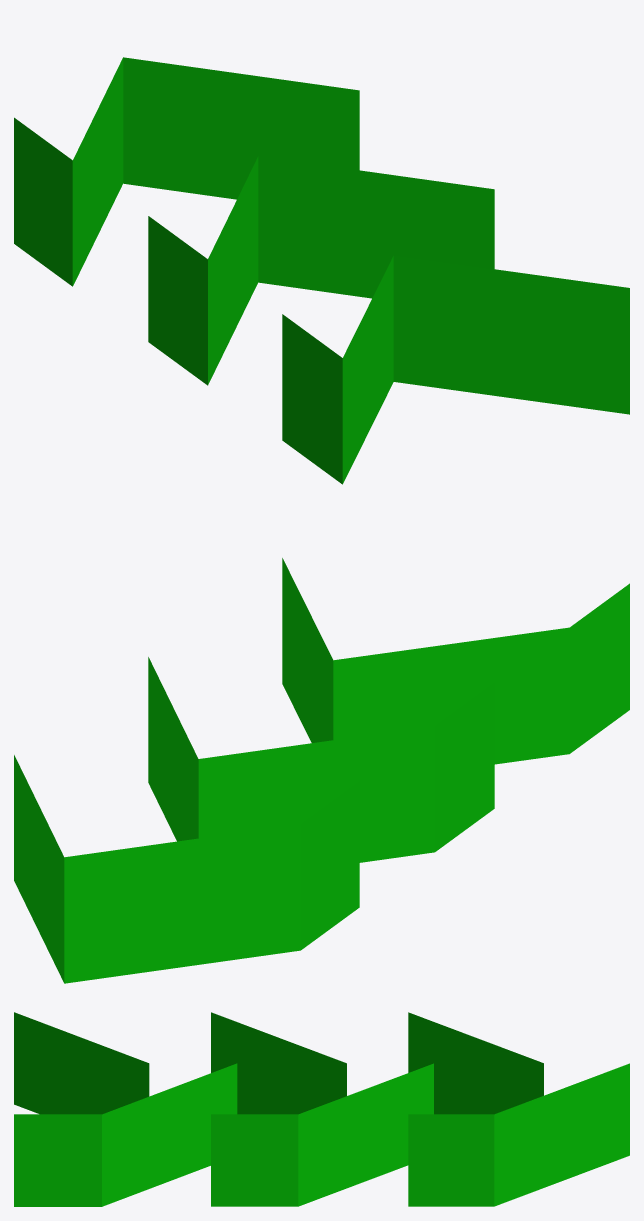
The model's file is speedUpFx.glb.
3 views of the same model, one above another, from view 1: azimuth 30°, elevation 25°; view 2: azimuth 150°, elevation 25°; view 3: azimuth 270°, elevation 25° (orthographic). The views are drawn at different scales.
Visible parts, largest first — view 1: suTop; view 2: suTop; view 3: suTop.
Boxes of the visible parts, <box> form: suTop: <box>14,57,629,484</box>; suTop: <box>14,558,629,983</box>; suTop: <box>14,1012,629,1206</box>.
Bounding box in the file's own units: 0.9733 × 0.4099 × 2.48.
